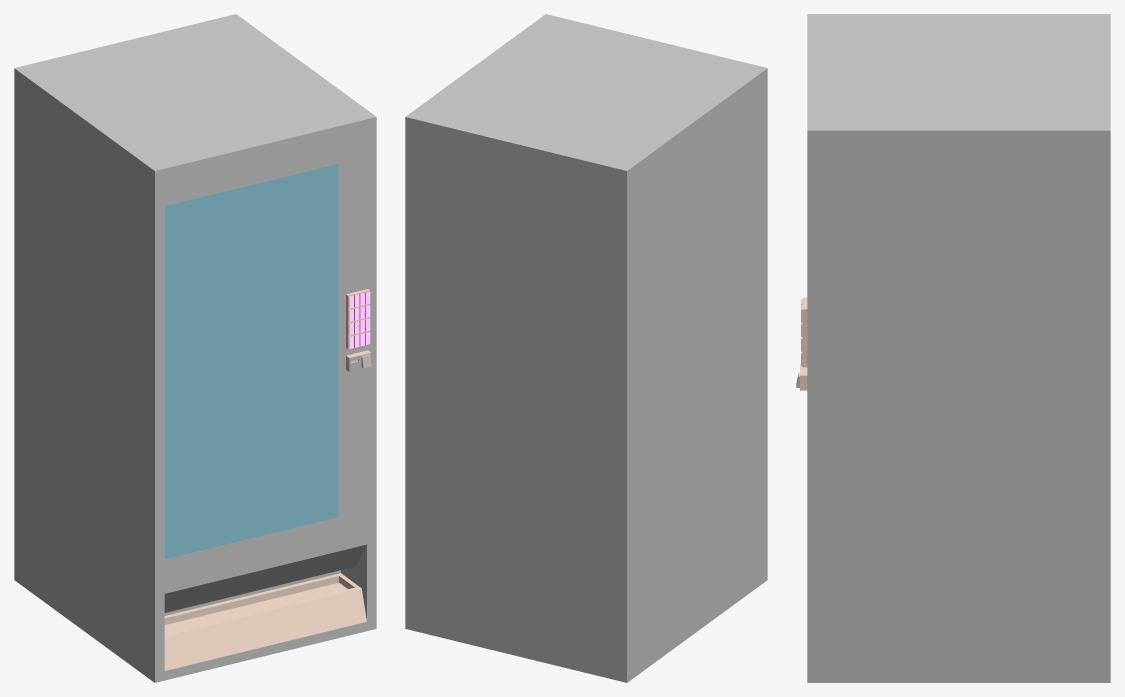
Rendered from Maquina de Soda.fbx.
3 views of the same model, side by side, from view 1: azimuth 30°, elevation 25°; view 2: azimuth 150°, elevation 25°; view 3: azimuth 270°, elevation 25° (orthographic). The views are drawn at different scales.
Parts seen in each view (by area): view 1: soda; view 2: soda; view 3: soda.
Part boxes in pixels (x1=…): soda: x1=14, y1=14, x2=376, y2=682; soda: x1=405, y1=14, x2=767, y2=682; soda: x1=796, y1=14, x2=1110, y2=682.
Bounding box in the file's own units: 153 × 337 × 174.
